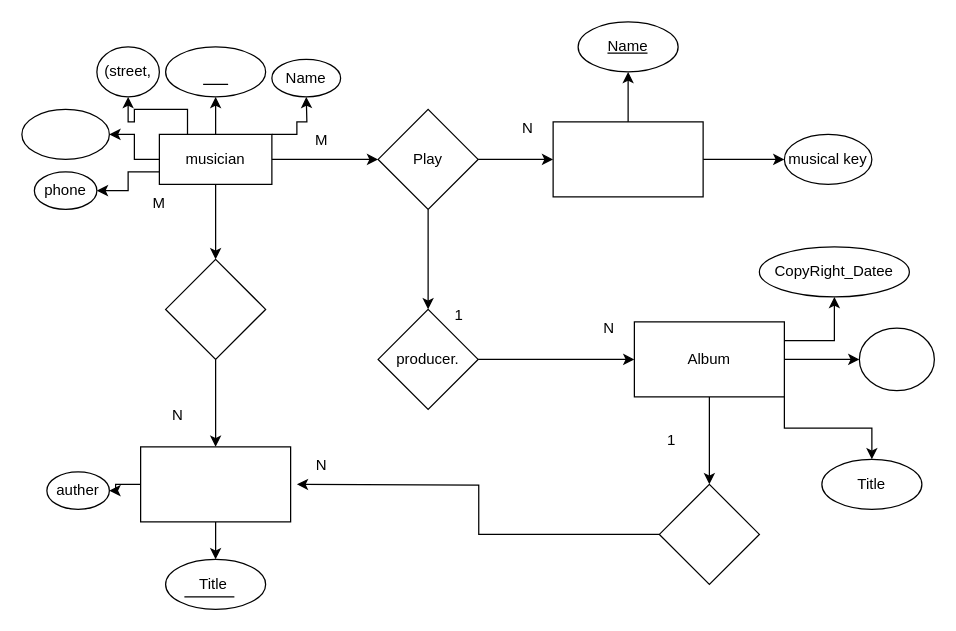
Image size: 956x631. Some labels were removed from this diagram. Here are the shapes that lost their labels. From the top down, the centre of each, then its label:
At point 215,71: "MID".
At point 65,133: "city)".
At point 627,159: "instrument".
At point 215,308: "performe".
At point 896,359: "AlbumID".
At point 215,484: "song".
At point 708,533: "Contain".
